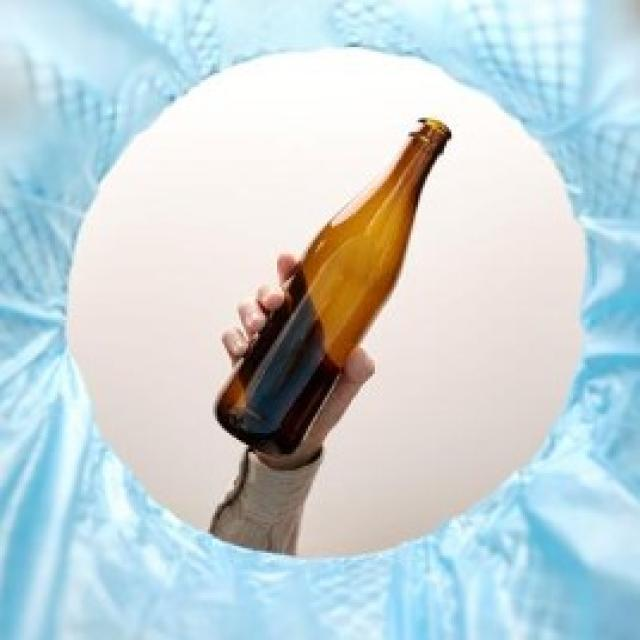electronic: (212, 117, 460, 457)
